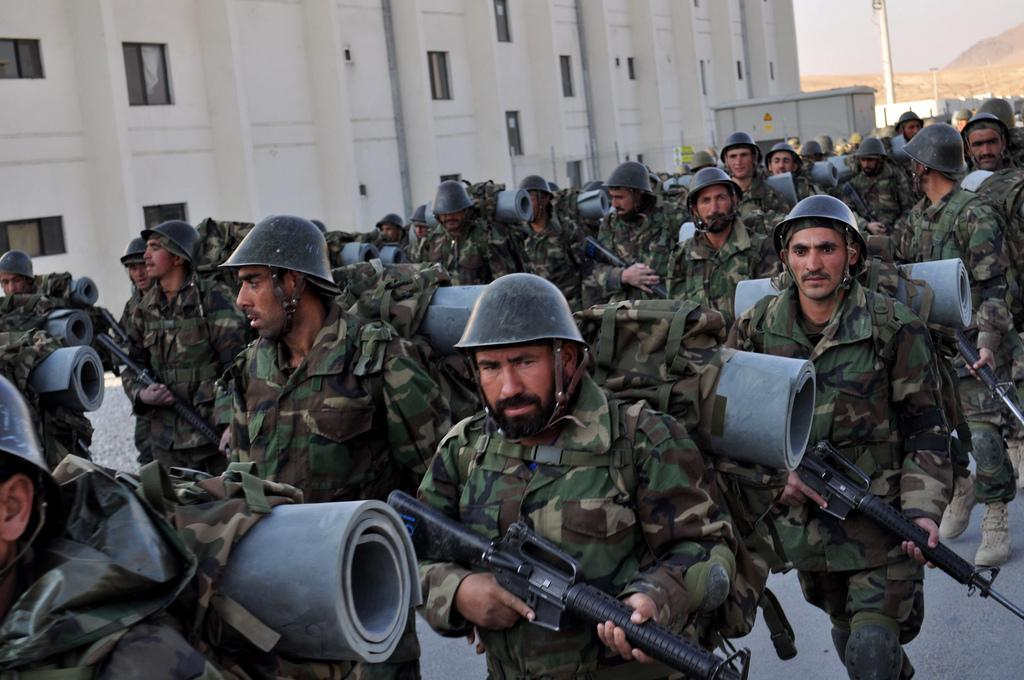Rifle: (390, 487, 749, 679), (793, 435, 1023, 614), (94, 331, 225, 448), (947, 326, 1023, 423), (581, 233, 672, 298)
